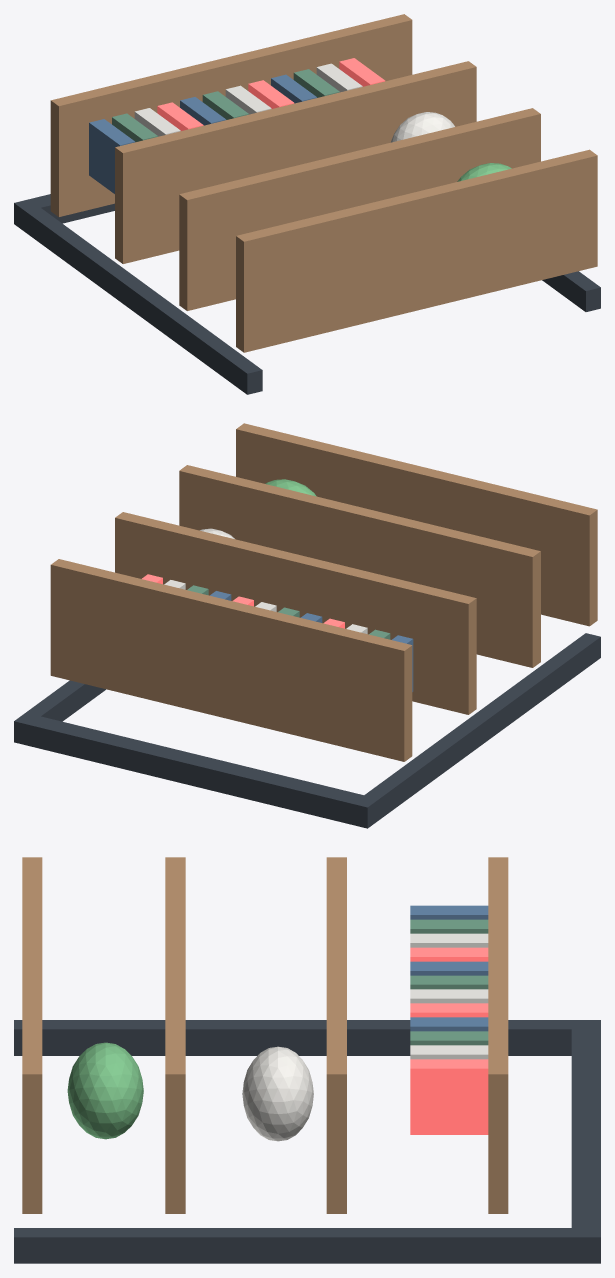
The model's file is SHELF_OPEN_001.glb.
3 views of the same model, one above another, from view 1: azimuth 30°, elevation 25°; view 2: azimuth 150°, elevation 25°; view 3: azimuth 270°, elevation 25° (orthographic). The views are drawn at different scales.
Parts seen in each view (by area): view 1: wood_shelf_006, wood_shelf_004, wood_shelf_005, wood_shelf_003, side_frame_001, shelf_book_007, side_frame_002, bottom_bar_000, decor_vase_019, shelf_book_012, shelf_book_016, shelf_book_009 (+8 smaller); view 2: wood_shelf_003, wood_shelf_005, wood_shelf_004, wood_shelf_006, bottom_bar_000, side_frame_001, side_frame_002; view 3: side_frame_002, side_frame_001, wood_shelf_003, wood_shelf_004, wood_shelf_005, wood_shelf_006, bottom_bar_000, shelf_book_018, shelf_plant_020, decor_vase_019, shelf_book_007, shelf_book_008 (+9 smaller).
Part boxes in pixels (box(x1,y1,x2,y2)): wood_shelf_006: box(236, 149, 597, 352); wood_shelf_004: box(115, 61, 476, 263); wood_shelf_005: box(179, 108, 540, 310); wood_shelf_003: box(50, 14, 412, 216); side_frame_001: box(14, 199, 262, 394); shelf_book_007: box(89, 119, 134, 193); side_frame_002: box(542, 271, 600, 311); bottom_bar_000: box(14, 194, 114, 231); decor_vase_019: box(390, 112, 454, 142); shelf_book_012: box(202, 91, 248, 119); shelf_book_016: box(293, 69, 339, 97); shelf_book_009: box(134, 108, 180, 136); wood_shelf_003: box(50, 559, 412, 761); wood_shelf_005: box(179, 465, 540, 667); wood_shelf_004: box(115, 512, 476, 714); wood_shelf_006: box(236, 423, 597, 626); bottom_bar_000: box(14, 716, 379, 828); side_frame_001: box(352, 633, 600, 827); side_frame_002: box(14, 680, 105, 742); side_frame_002: box(14, 1228, 600, 1263); side_frame_001: box(14, 1020, 600, 1055); wood_shelf_003: box(488, 857, 508, 1213); wood_shelf_004: box(326, 857, 346, 1213); wood_shelf_005: box(165, 857, 185, 1213); wood_shelf_006: box(22, 857, 42, 1213); bottom_bar_000: box(571, 1020, 600, 1263); shelf_book_018: box(410, 1059, 488, 1134); shelf_plant_020: box(67, 1042, 143, 1139); decor_vase_019: box(242, 1046, 313, 1141); shelf_book_007: box(410, 905, 488, 919); shelf_book_008: box(410, 919, 488, 933).
Bounding box in the file's own units: 1.4 × 0.57 × 1.6.
